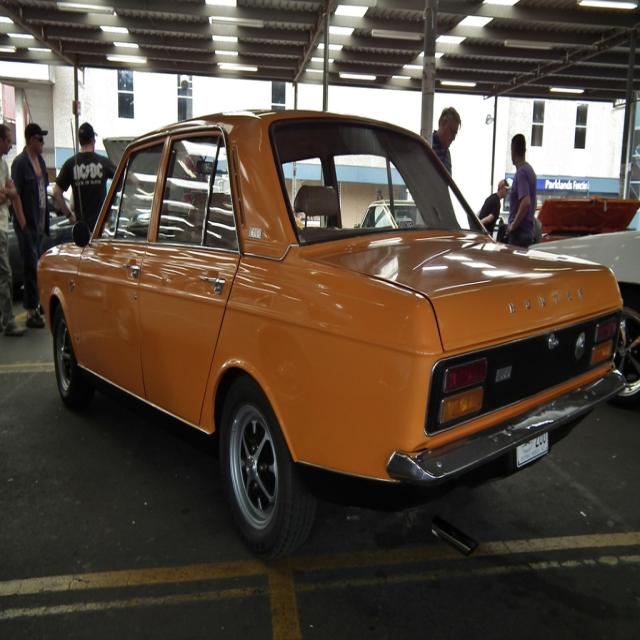car: (36, 103, 631, 553)
